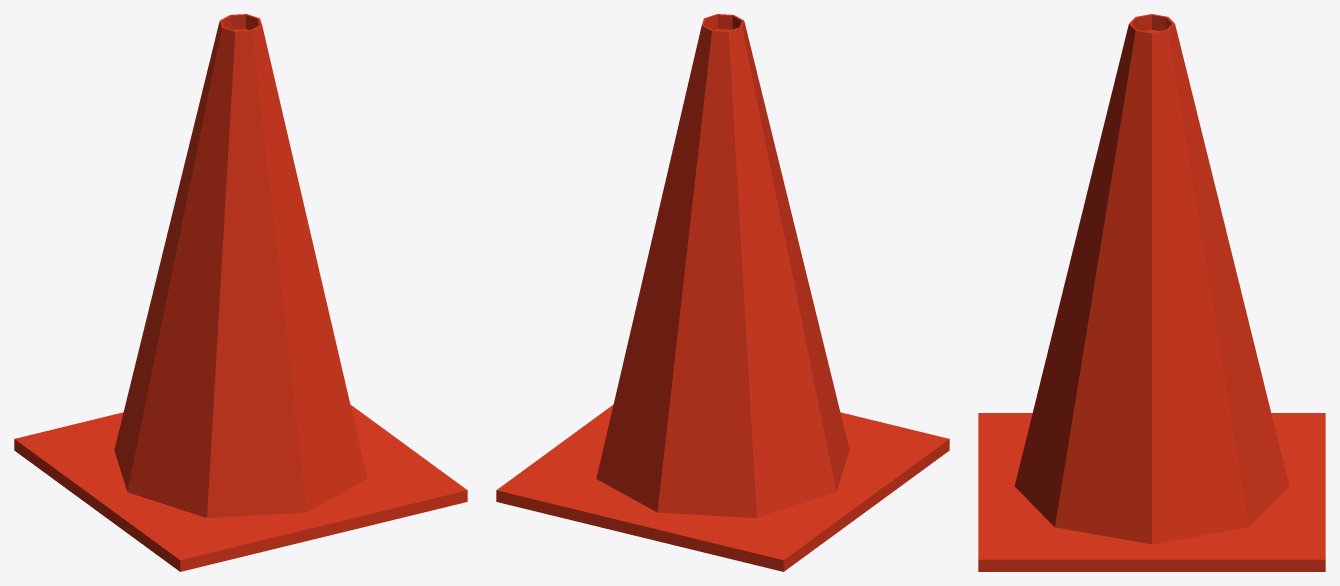
File: plot1.fbx
3 renders of one model, left to right at view 1: azimuth 30°, elevation 25°; view 2: azimuth 150°, elevation 25°; view 3: azimuth 270°, elevation 25°, orthographic. The views are drawn at different scales.
Parts seen in each view (by area): view 1: plot1; view 2: plot1; view 3: plot1.
Boxes of the visible parts, <box> form: plot1: <box>14,14,467,571</box>; plot1: <box>496,14,949,571</box>; plot1: <box>978,14,1325,571</box>.
Bounding box in the file's own units: 26.5 × 39.94 × 26.5.
